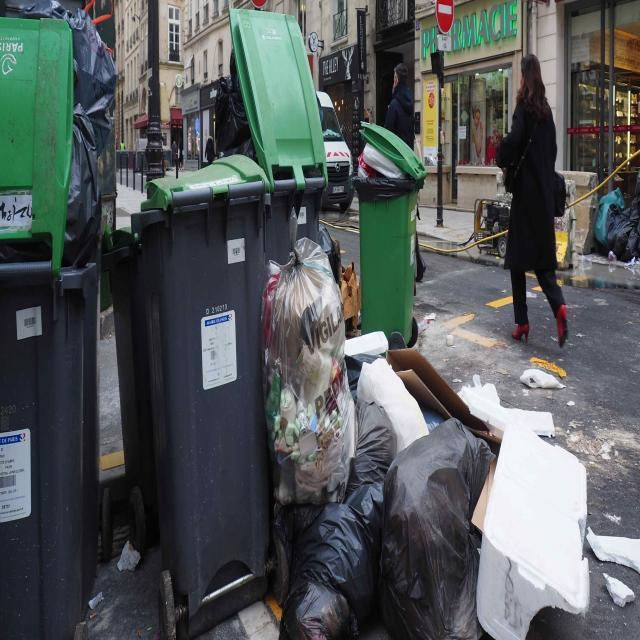garbage: (243, 241, 612, 640)
